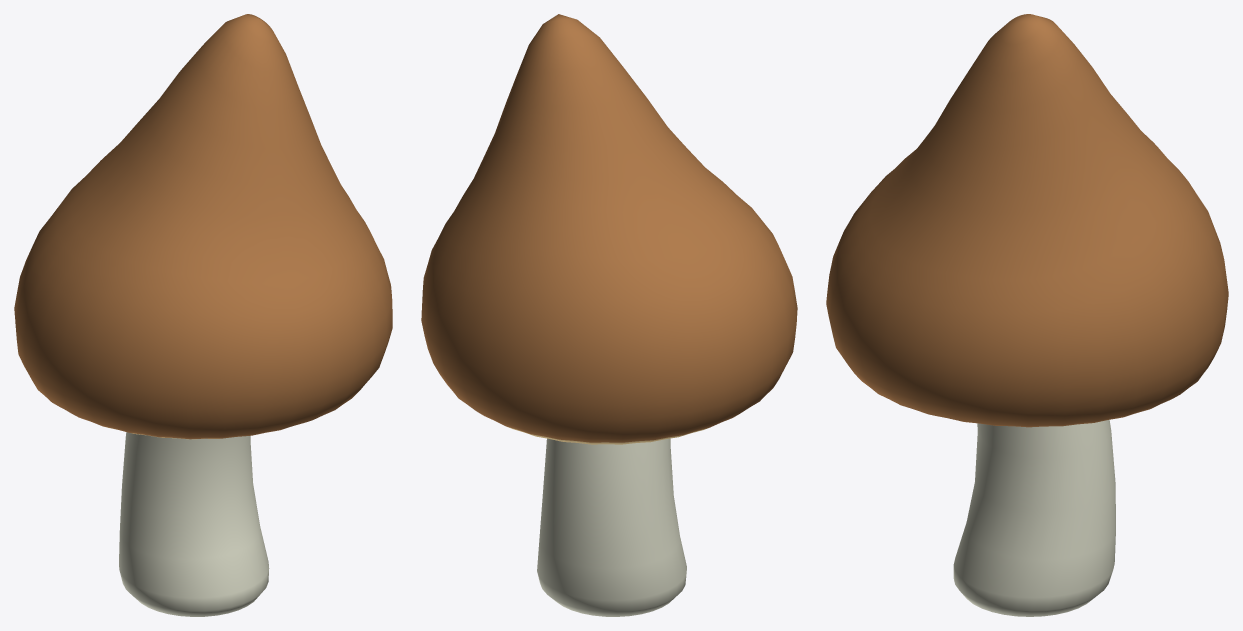
Rendered from Champignon_1 1.fbx.
3 renders of one model, left to right at view 1: azimuth 30°, elevation 25°; view 2: azimuth 150°, elevation 25°; view 3: azimuth 270°, elevation 25°, orthographic. The views are drawn at different scales.
Parts seen in each view (by area): view 1: Champignon_1; view 2: Champignon_1; view 3: Champignon_1.
Part boxes in pixels (<box>): Champignon_1: <box>14,14,392,616</box>; Champignon_1: <box>421,14,797,616</box>; Champignon_1: <box>826,14,1228,616</box>.
Size of the model in its own units: 50.7 by 83.3 by 50.46.
